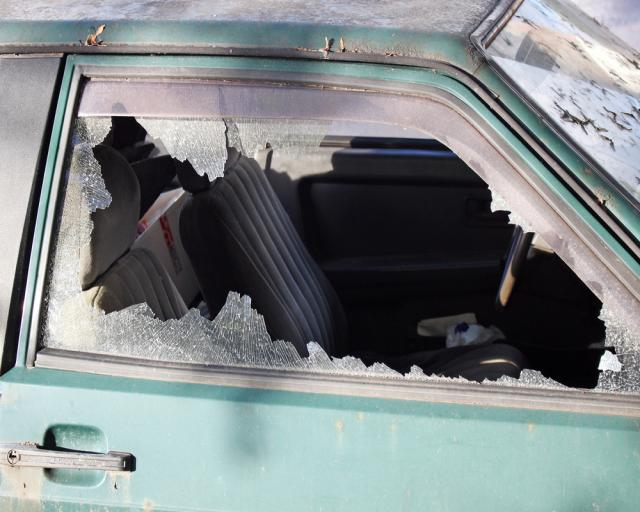glass shatter: (37, 77, 640, 396)
